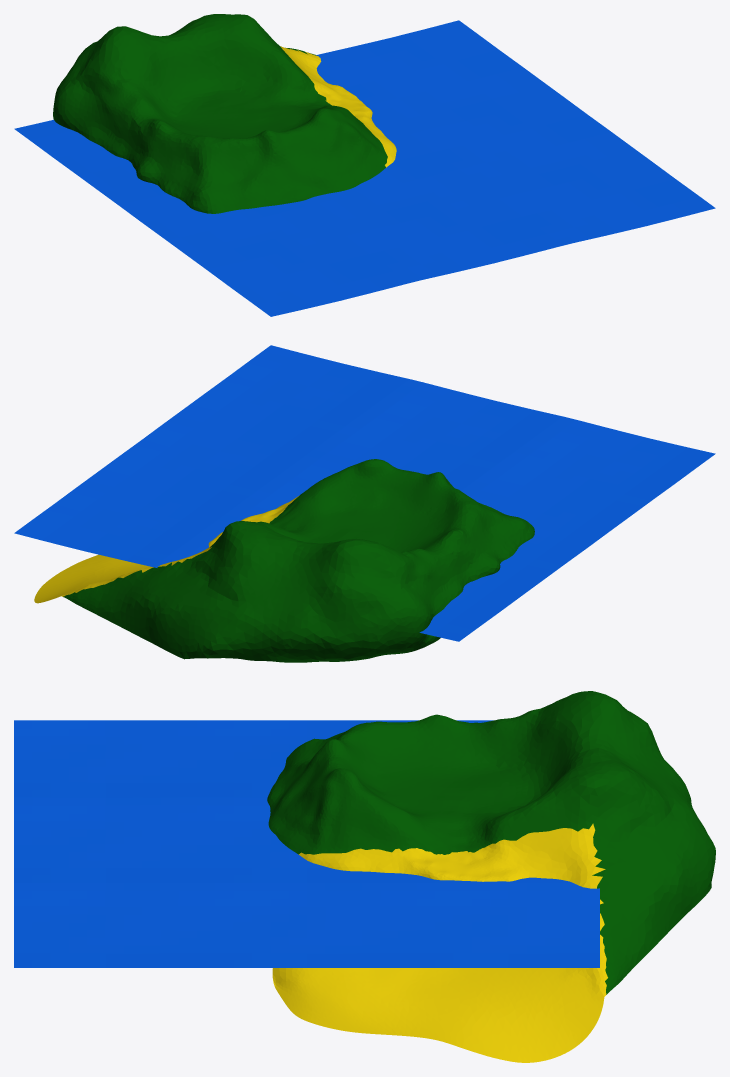
File: Map.fbx
3 renders of one model, top to bottom at view 1: azimuth 30°, elevation 25°; view 2: azimuth 150°, elevation 25°; view 3: azimuth 270°, elevation 25°, orthographic. The views are drawn at different scales.
Visible parts, largest first — view 1: Plane.001, Map; view 2: Plane.001, Map; view 3: Plane.001, Map.
Boxes of the visible parts, left/top/right/bottom form: Plane.001: left=14, top=20, right=715, bottom=316; Map: left=53, top=14, right=396, bottom=213; Plane.001: left=14, top=345, right=715, bottom=641; Map: left=34, top=459, right=534, bottom=662; Plane.001: left=14, top=720, right=599, bottom=967; Map: left=267, top=691, right=715, bottom=1062.
Size of the model in its own units: 337 by 398 by 110.
